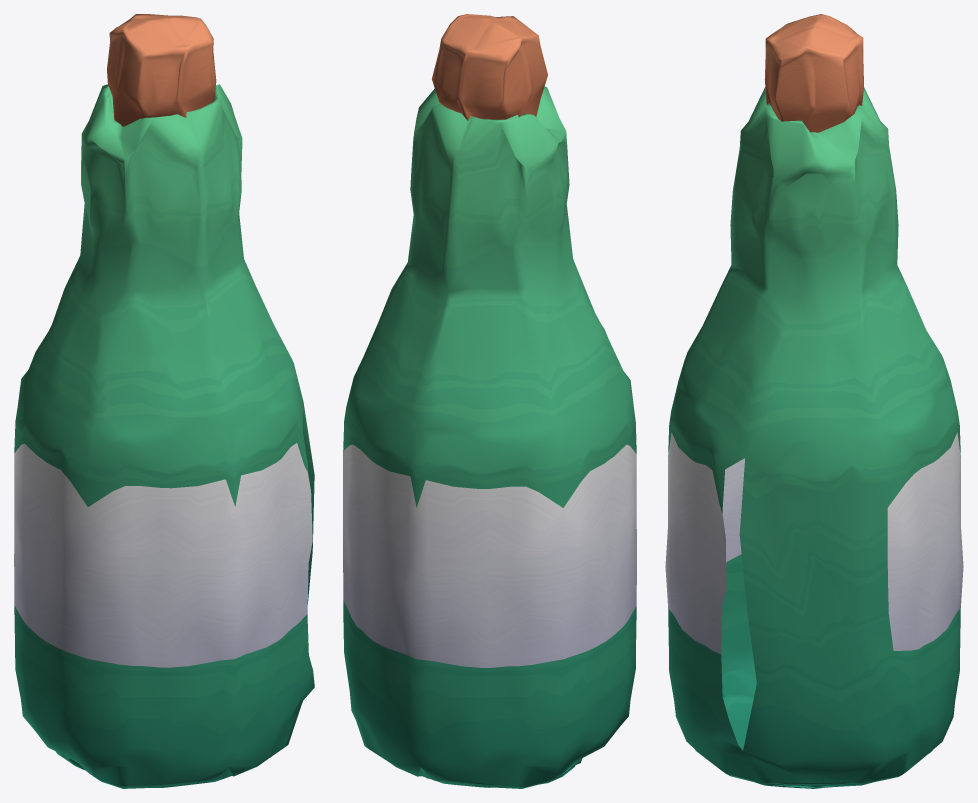
3 views of the same model, side by side, from view 1: azimuth 30°, elevation 25°; view 2: azimuth 150°, elevation 25°; view 3: azimuth 270°, elevation 25° (orthographic).
Size of the model in its own units: 0.3424 by 0.9977 by 0.3711.
1 material, 1 textured.
